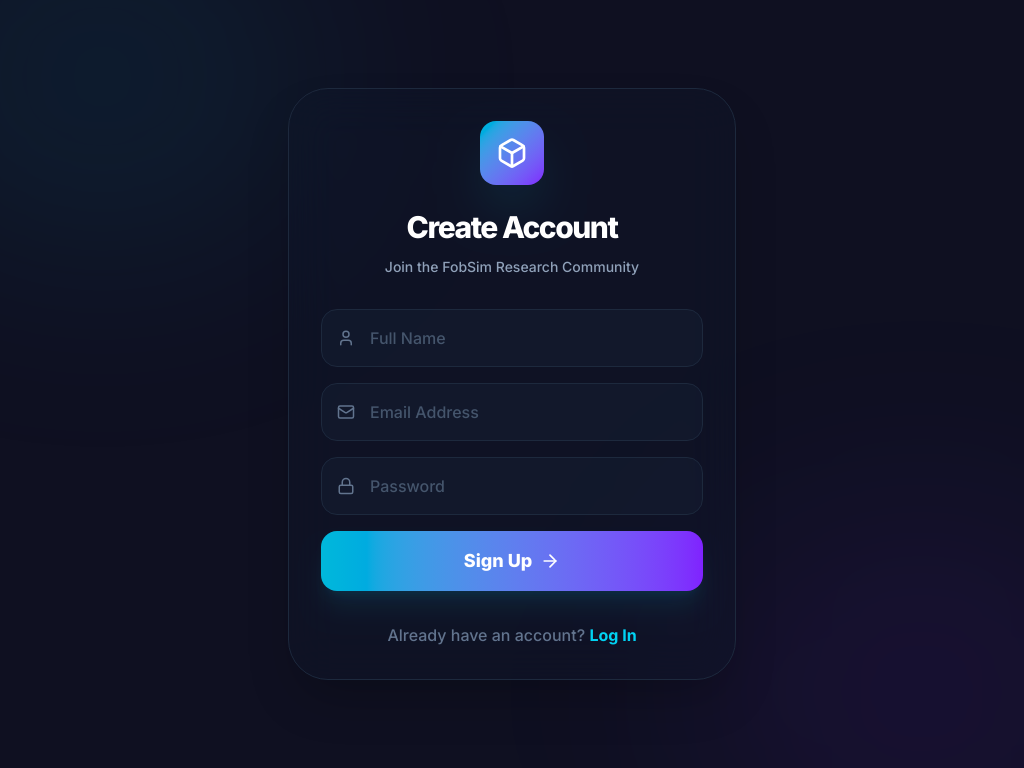
Test: SignupPage › confirms registration before redirecting to the home page
Type "Research User" into the field with placeholder "Full Name".
click(512, 338); type("Research User")  # box [321,309,703,367]
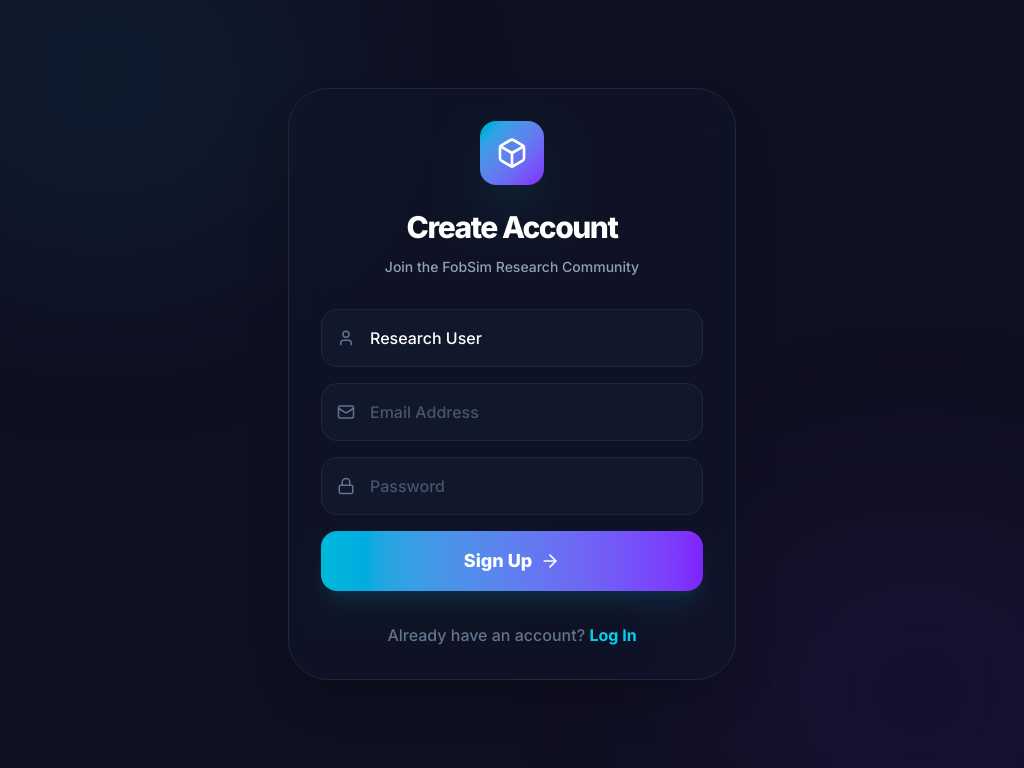
Type "researcher@example.com" into the field with placeholder "Email Address".
click(512, 412); type("researcher@example.com")  # box [321,383,703,441]
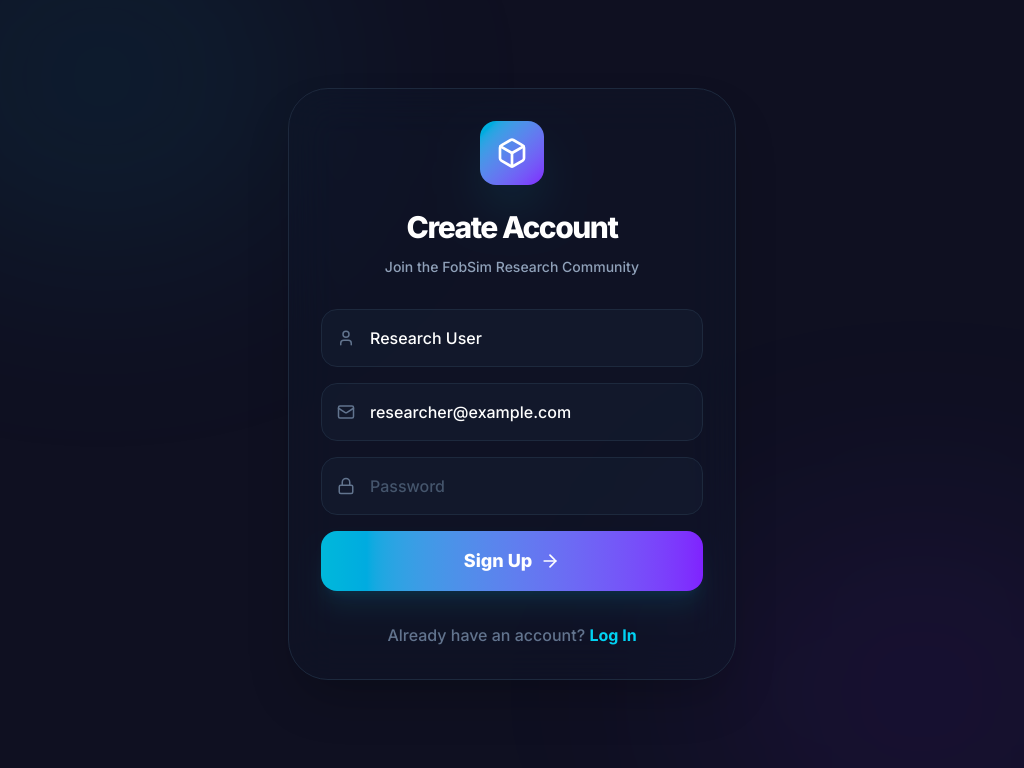
Type "secure-password" into the password field with placeholder "Password".
click(512, 486); type("secure-password")  # box [321,457,703,515]
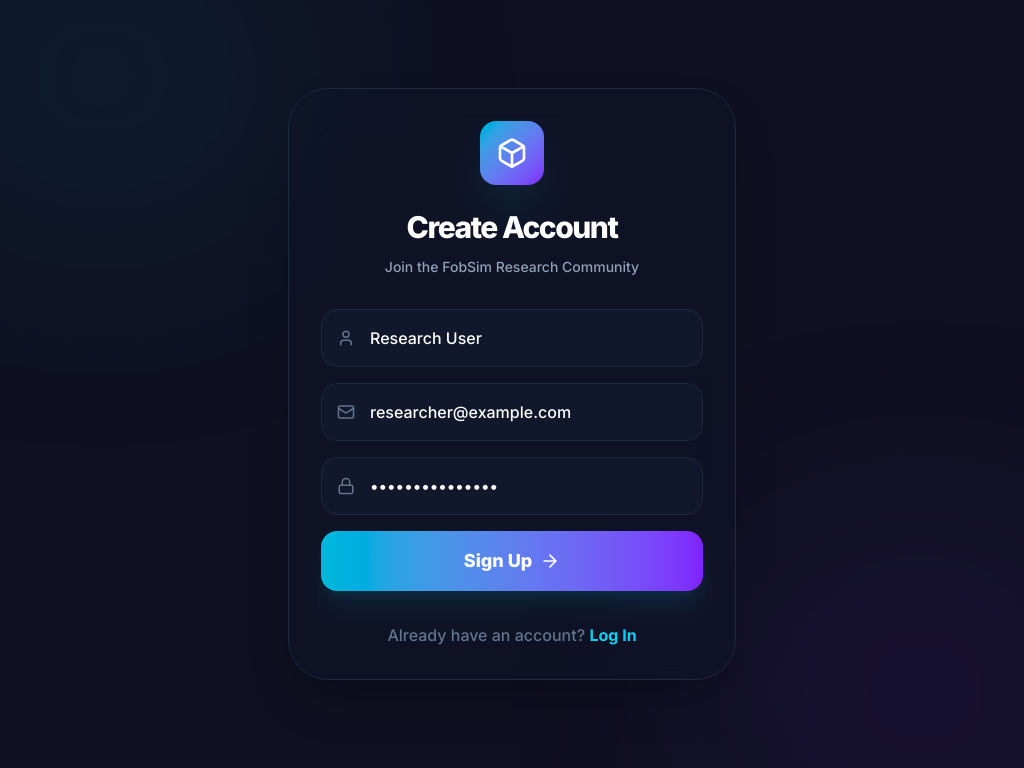
Click the button "Sign Up".
click(512, 561)  # box [321,531,703,591]
Wait 1500 ms
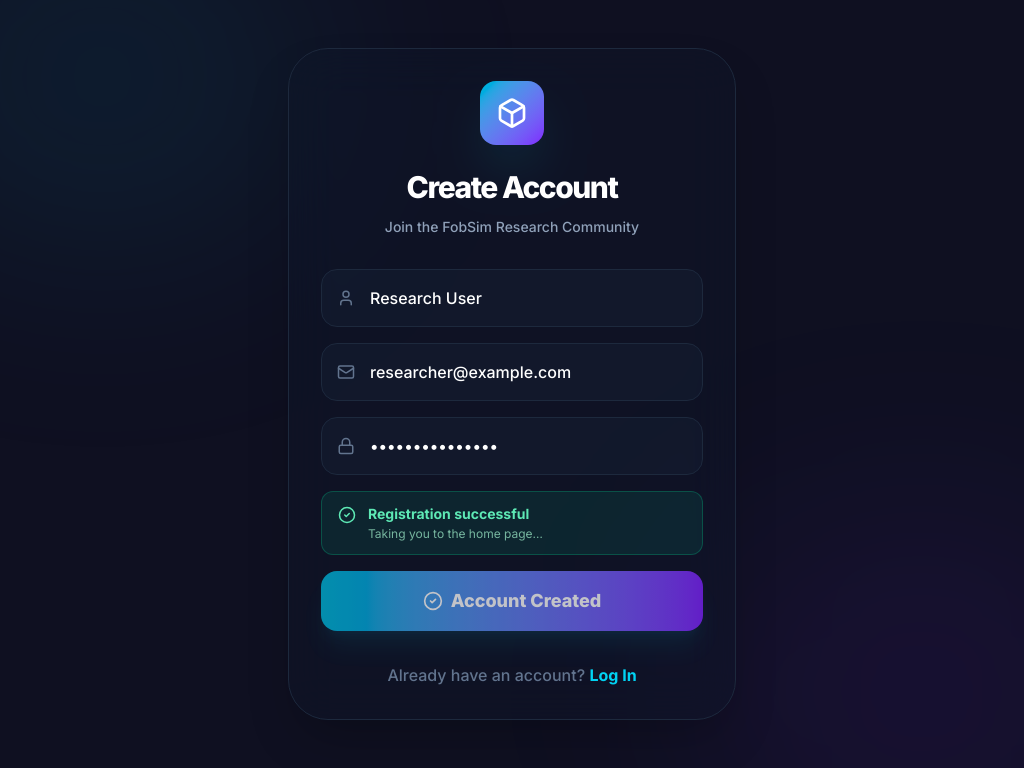
Expected: the message shows "Registration successful", [368,505,529,522]
